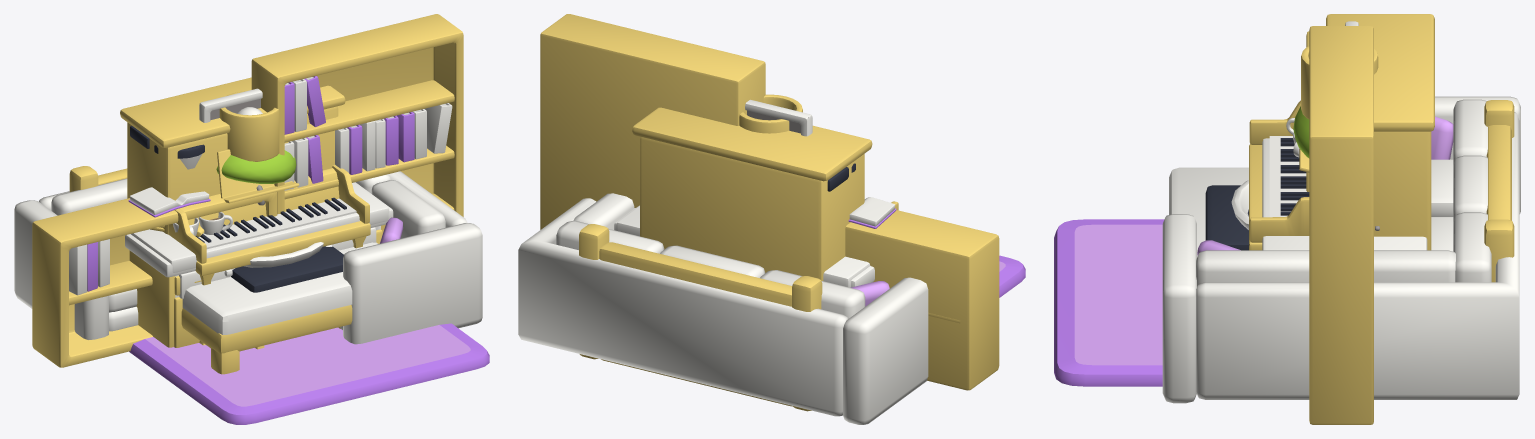
Rendered from defaultObject_colorSample.fbx.
3 views of the same model, side by side, from view 1: azimuth 30°, elevation 25°; view 2: azimuth 150°, elevation 25°; view 3: azimuth 270°, elevation 25° (orthographic). The views are drawn at different scales.
Visible parts, largest first — view 1: Bookstand, Sofa00, Piano, Rug00, DoubleBed, KitchenSink, BathCabinet, LampStand00, BathSink, Plant00; view 2: Sofa00, Bookstand, Piano, DoubleBed, BathCabinet, BathSink, LampStand00, Rug00, KitchenSink; view 3: Sofa00, Bookstand, Piano, Rug00, DoubleBed, BathCabinet, LampStand00, BathSink, Plant00.
Part boxes in pixels (bbox=[...]): Bookstand: bbox=[32, 14, 463, 367]; Sofa00: bbox=[14, 171, 482, 344]; Piano: bbox=[120, 77, 370, 349]; Rug00: bbox=[129, 323, 489, 424]; DoubleBed: bbox=[69, 166, 377, 374]; KitchenSink: bbox=[125, 125, 393, 347]; BathCabinet: bbox=[131, 182, 389, 298]; LampStand00: bbox=[219, 91, 279, 161]; BathSink: bbox=[199, 88, 323, 267]; Plant00: bbox=[216, 150, 296, 183]; Sofa00: bbox=[518, 193, 928, 424]; Bookstand: bbox=[540, 14, 999, 390]; Piano: bbox=[632, 107, 898, 280]; DoubleBed: bbox=[579, 224, 822, 411]; BathCabinet: bbox=[616, 205, 870, 287]; BathSink: bbox=[745, 99, 812, 136]; LampStand00: bbox=[739, 94, 802, 133]; Rug00: bbox=[999, 255, 1025, 297]; KitchenSink: bbox=[614, 163, 874, 287]; Sofa00: bbox=[1162, 96, 1520, 403]; Bookstand: bbox=[1306, 26, 1373, 424]; Piano: bbox=[1205, 14, 1434, 250]; Rug00: bbox=[1054, 219, 1164, 386]; DoubleBed: bbox=[1169, 100, 1514, 282]; BathCabinet: bbox=[1262, 138, 1427, 250]; LampStand00: bbox=[1301, 46, 1378, 118]; BathSink: bbox=[1231, 21, 1358, 229]; Plant00: bbox=[1293, 106, 1309, 158].
Bounding box in the file's own units: 3.28 × 1.86 × 2.67.
